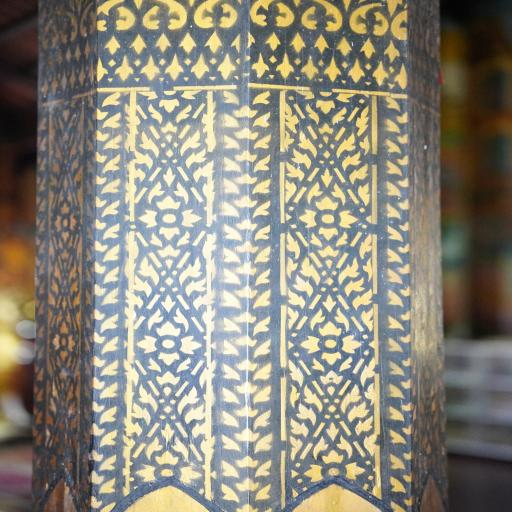hoa: (138, 320, 204, 366), (298, 196, 362, 239), (140, 194, 200, 239), (133, 450, 201, 488), (302, 323, 365, 362), (292, 86, 362, 114), (306, 450, 362, 484), (140, 86, 190, 112)
